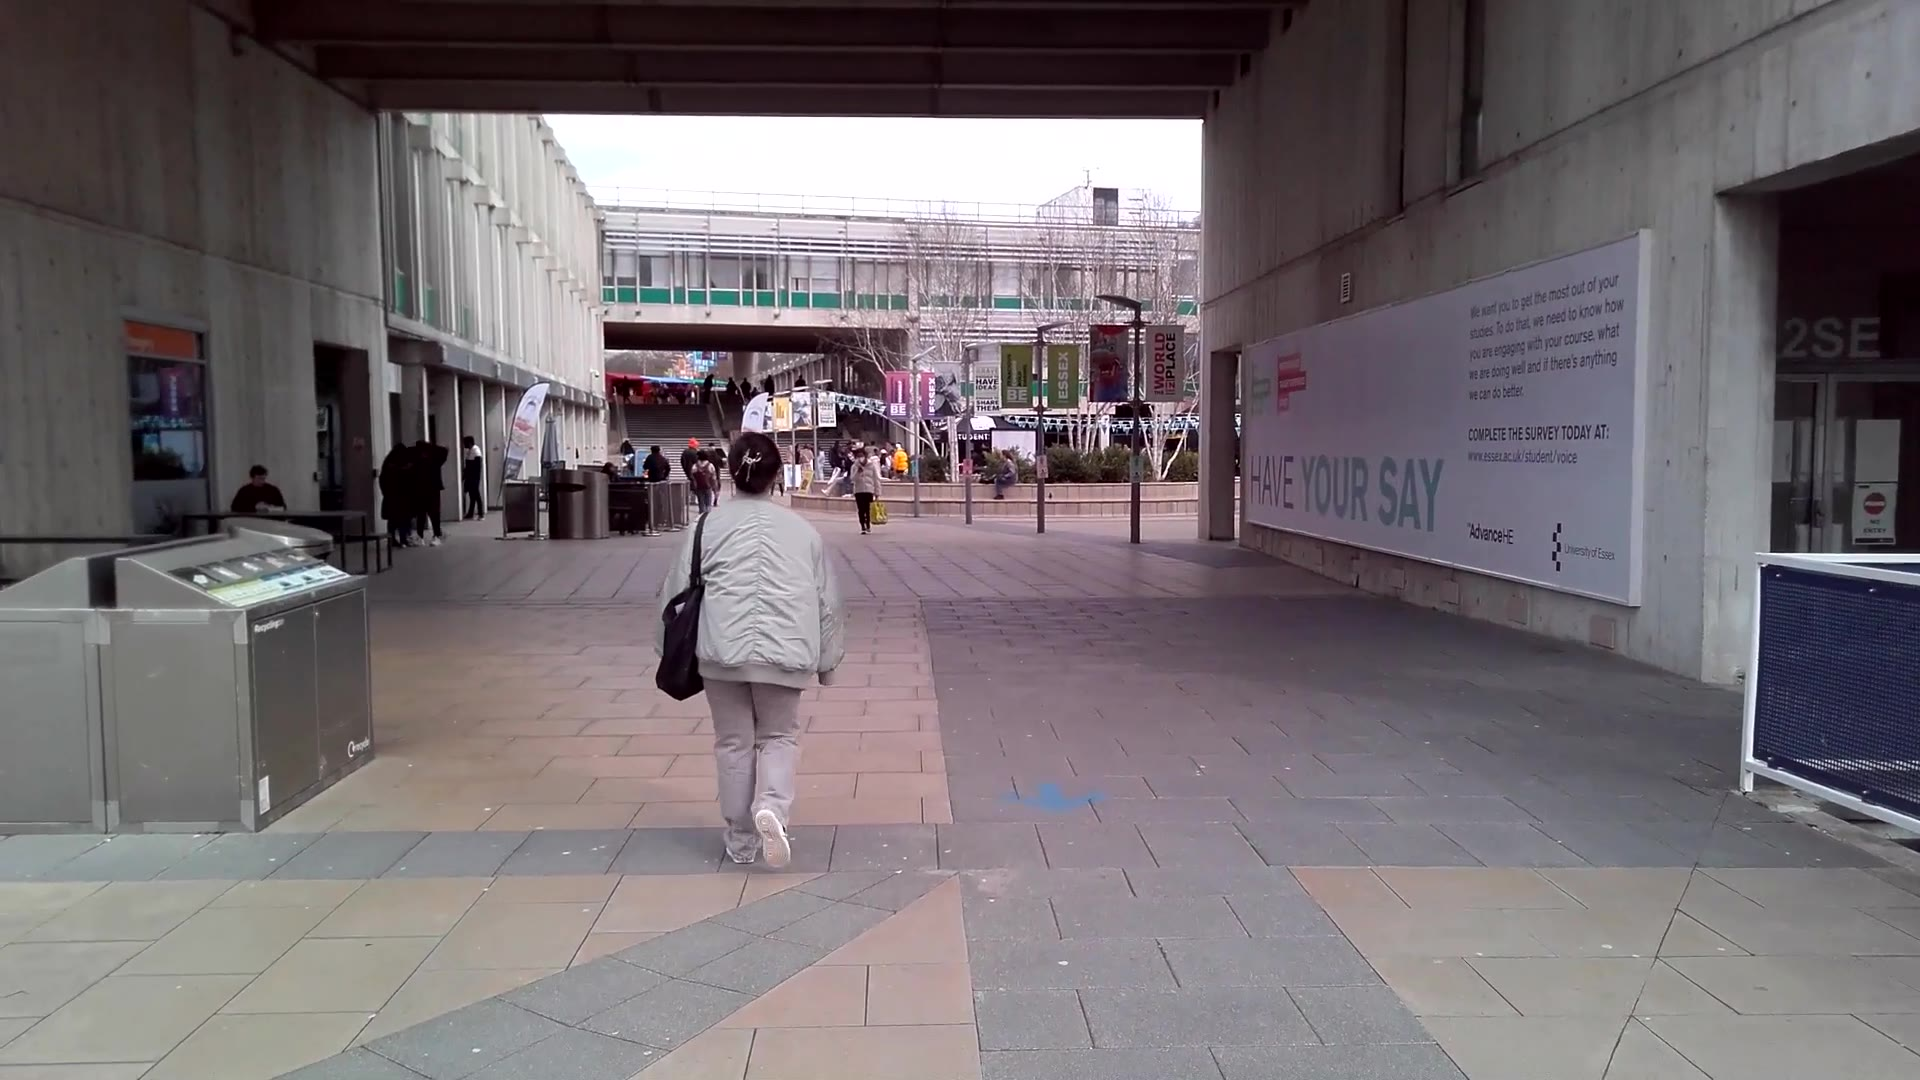Backpack: (650, 586, 714, 707)
Bin: (102, 526, 368, 835), (2, 537, 113, 837), (541, 466, 618, 551)
Person: (708, 426, 814, 869), (853, 447, 877, 533)
